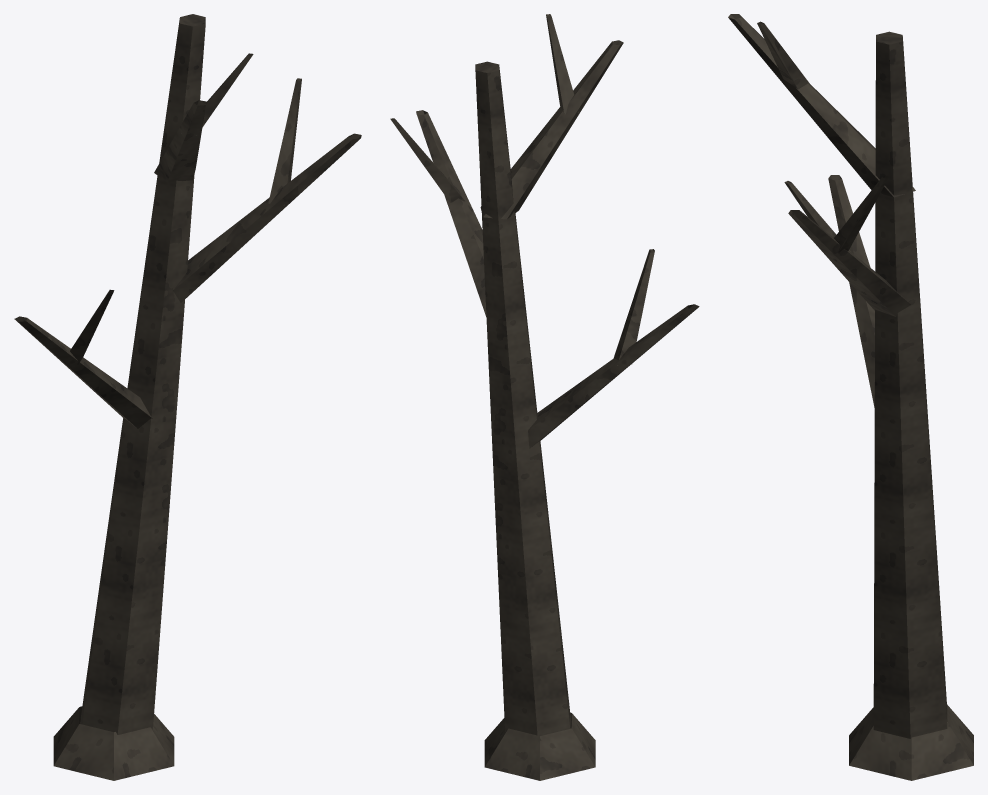
Rendered from dead_tree_a.glb.
3 views of the same model, side by side, from view 1: azimuth 30°, elevation 25°; view 2: azimuth 150°, elevation 25°; view 3: azimuth 270°, elevation 25° (orthographic). The views are drawn at different scales.
Parts seen in each view (by area): view 1: DeadTreeA; view 2: DeadTreeA; view 3: DeadTreeA.
Boxes of the visible parts, x1,y1,x2,y2 form: DeadTreeA: [14, 14, 361, 780]; DeadTreeA: [390, 14, 699, 780]; DeadTreeA: [728, 14, 973, 780].
Bounding box in the file's own units: 2.12 × 4.56 × 1.34.
Materials: 1 (1 with a texture image).
